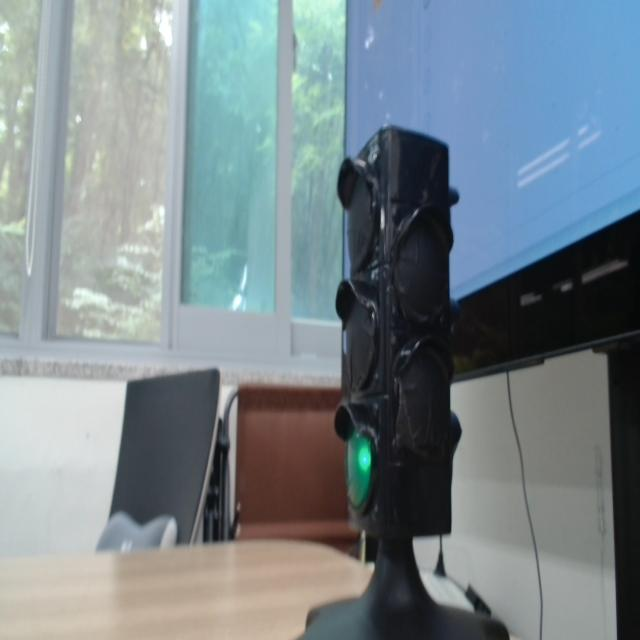green_light: (346, 430, 373, 510), (358, 444, 372, 473)
